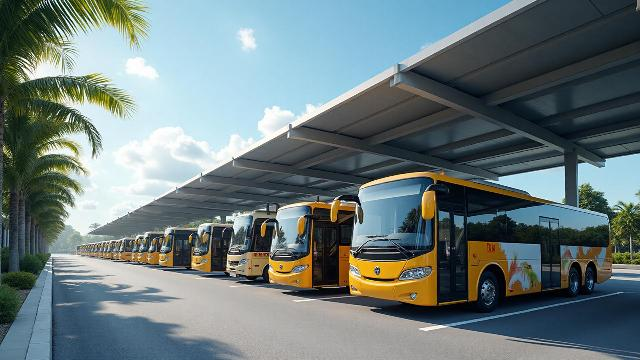bus: (344, 170, 612, 310), (262, 201, 349, 294), (222, 210, 274, 283), (189, 222, 232, 278), (157, 226, 191, 268), (138, 232, 155, 264), (146, 236, 162, 268), (118, 237, 132, 264), (130, 235, 143, 263), (106, 240, 115, 260), (113, 239, 121, 260), (102, 241, 109, 260)
